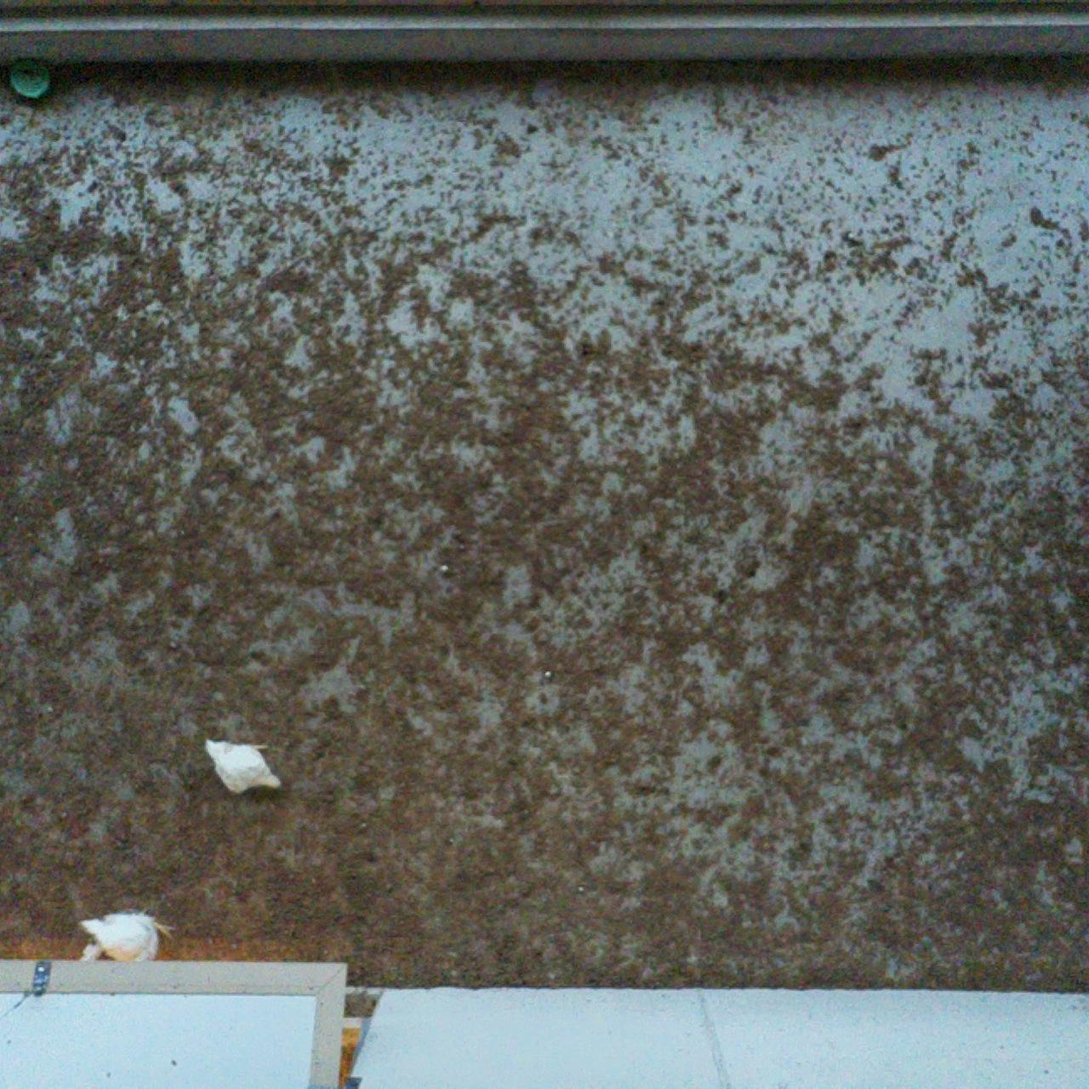chicken: (80, 905, 173, 973), (199, 732, 284, 799)
